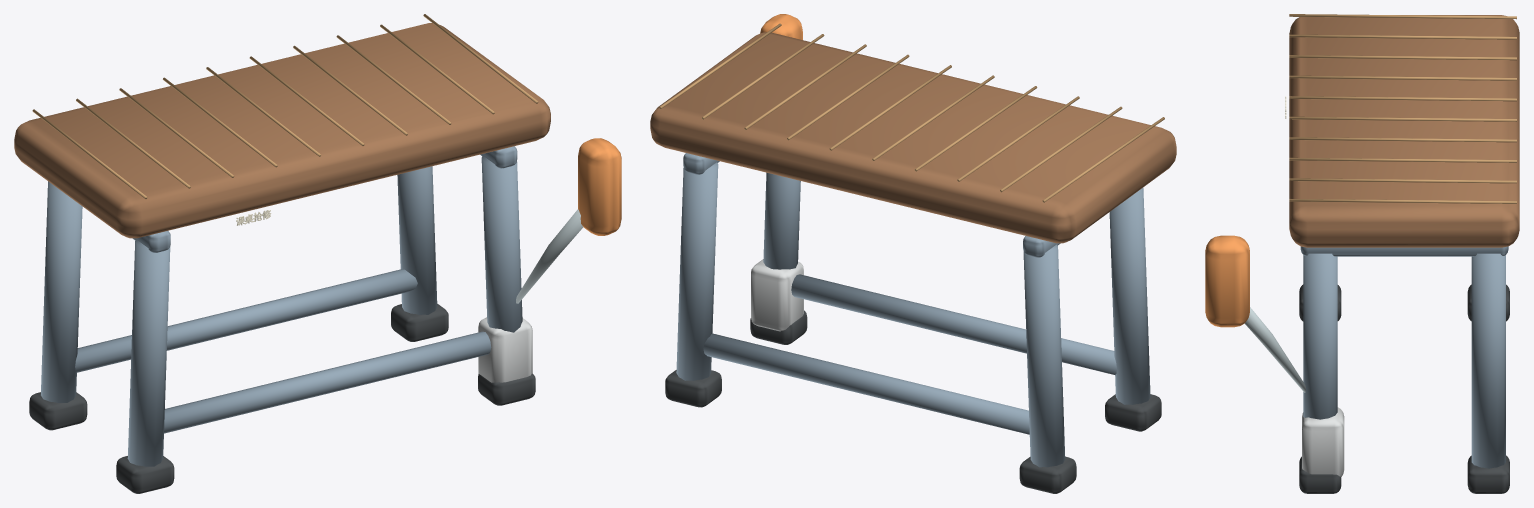
The model's file is G05_Repairing_Animated_School_Desk.glb.
3 views of the same model, side by side, from view 1: azimuth 30°, elevation 25°; view 2: azimuth 150°, elevation 25°; view 3: azimuth 270°, elevation 25° (orthographic). The views are drawn at different scales.
Parts seen in each view (by area): view 1: G05 actual solid elm school desk tabletop, G05_LEGS_ACTOR | Blue-gray school desk steel tubing, G05_LEGS_ACTOR | Rubber desk furniture protective feet, G05_TABLETOP_ACTOR | Raised linear elm growth-ring highlight, G05 orange ergonomic screwdriver handle, G05 crooked detachable threaded repair extender, G05 real repair screwdriver steel shaft; view 2: G05 actual solid elm school desk tabletop, G05_LEGS_ACTOR | Blue-gray school desk steel tubing, G05_LEGS_ACTOR | Rubber desk furniture protective feet, G05_TABLETOP_ACTOR | Raised linear elm growth-ring highlight, G05 crooked detachable threaded repair extender, G05 orange ergonomic screwdriver handle; view 3: G05 actual solid elm school desk tabletop, G05_LEGS_ACTOR | Blue-gray school desk steel tubing, G05_TABLETOP_ACTOR | Raised linear elm growth-ring highlight, G05 orange ergonomic screwdriver handle, G05_LEGS_ACTOR | Rubber desk furniture protective feet, G05 crooked detachable threaded repair extender, G05 real repair screwdriver steel shaft.
Boxes of the visible parts, x1,y1,x2,y2 form: G05 actual solid elm school desk tabletop: (14,23,550,238); G05_LEGS_ACTOR | Blue-gray school desk steel tubing: (41,146,522,466); G05_LEGS_ACTOR | Rubber desk furniture protective feet: (29,304,535,493); G05_TABLETOP_ACTOR | Raised linear elm growth-ring highlight: (32,14,538,198); G05 orange ergonomic screwdriver handle: (578,138,621,235); G05 crooked detachable threaded repair extender: (478,317,532,382); G05 real repair screwdriver steel shaft: (516,209,583,303); G05 actual solid elm school desk tabletop: (650,32,1176,243); G05_LEGS_ACTOR | Blue-gray school desk steel tubing: (676,153,1150,467); G05_LEGS_ACTOR | Rubber desk furniture protective feet: (665,310,1161,493); G05_TABLETOP_ACTOR | Raised linear elm growth-ring highlight: (659,23,1164,202); G05 crooked detachable threaded repair extender: (751,259,803,331); G05 orange ergonomic screwdriver handle: (760,14,802,39); G05 actual solid elm school desk tabletop: (1289,15,1519,247); G05_LEGS_ACTOR | Blue-gray school desk steel tubing: (1300,246,1508,468); G05_TABLETOP_ACTOR | Raised linear elm growth-ring highlight: (1289,14,1516,203); G05 orange ergonomic screwdriver handle: (1205,235,1249,327); G05_LEGS_ACTOR | Rubber desk furniture protective feet: (1299,284,1509,493); G05 crooked detachable threaded repair extender: (1302,407,1344,476); G05 real repair screwdriver steel shaft: (1244,307,1305,392).
Size of the model in its own units: 1.82 by 1.16 by 1.12.
